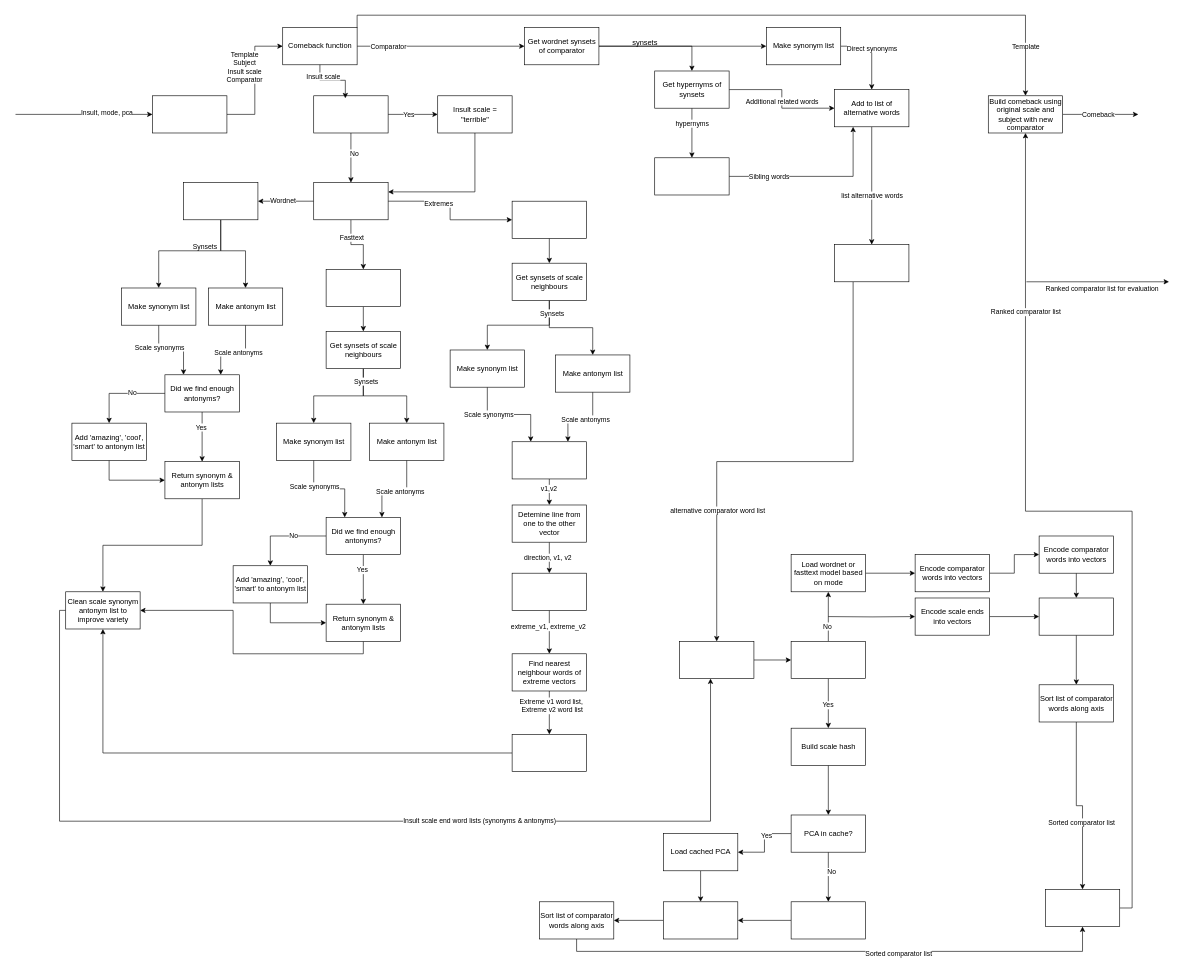
Some shapes in this 1185 by 968 pixel diagram are drawn without their labels. Here are the shapes that lost their labels. From the top down, the centre of each, then its label:
At [189,114]: "Determine insult template & extract subject, insult scale, comparator".
At [350,114]: "Is insult scale None".
At [691,176]: "Get hyponyms of hypernyms".
At [220,201]: "Get wordnet synsets of scale".
At [350,201]: "Used mode?".
At [549,219]: "Get fasttext 10 nearest scale neighbours".
At [871,263]: "Remove blacklisted words".
At [363,288]: "Get 10 nearest scale neighbours".
At [549,460]: "Create vectors of the synonym and antonym lists".
At [549,591]: "Slide vectors to extremes of line & normalise".
At [1076,616]: "Project comparator words along scale".
At [716,660]: "Ranking method".
At [828,660]: "PCA?".
At [549,753]: "Return extreme lists".
At [700,920]: "Project word vectors onto PCA axis".
At [828,920]: "Compute pca axis and word vectors (and store)".
At [1082,908]: "Filter list to unique words".
